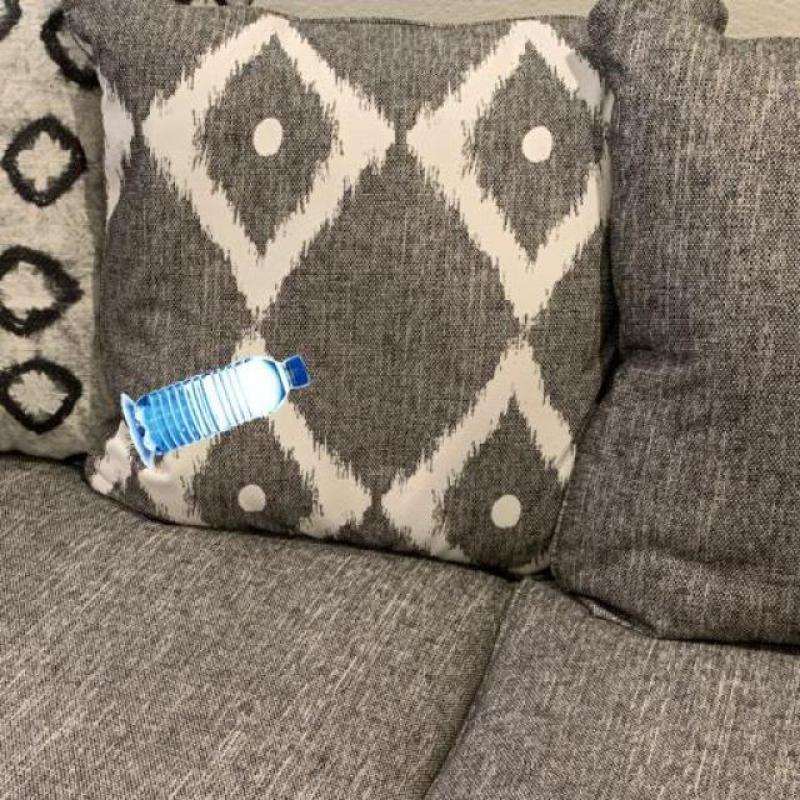botella: (137, 355, 312, 455)
